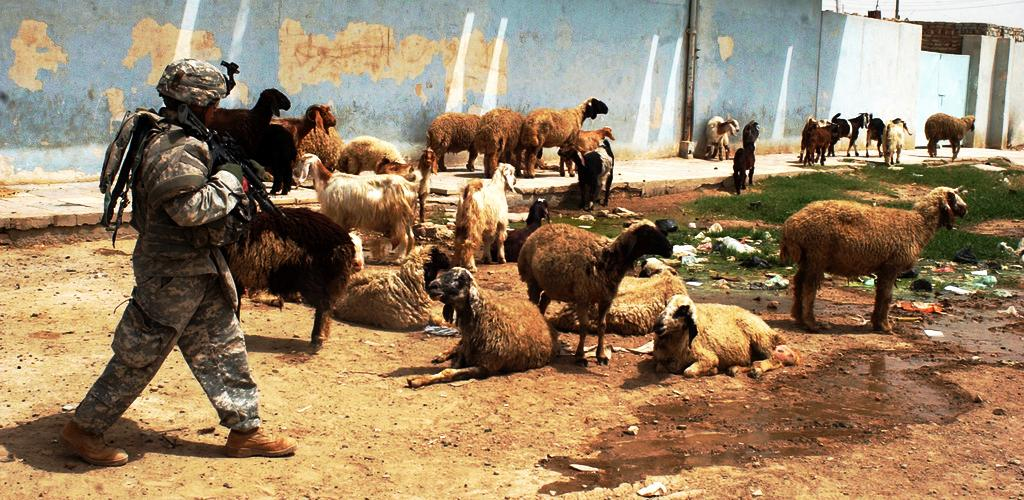Sheep: (778, 187, 970, 331), (523, 216, 665, 369), (403, 263, 554, 386), (293, 153, 426, 264), (650, 295, 795, 379), (330, 246, 447, 331), (452, 163, 519, 272), (521, 97, 597, 177), (425, 112, 484, 173), (473, 108, 525, 176), (336, 135, 411, 176), (925, 113, 976, 161), (702, 117, 736, 162), (882, 118, 913, 167)
